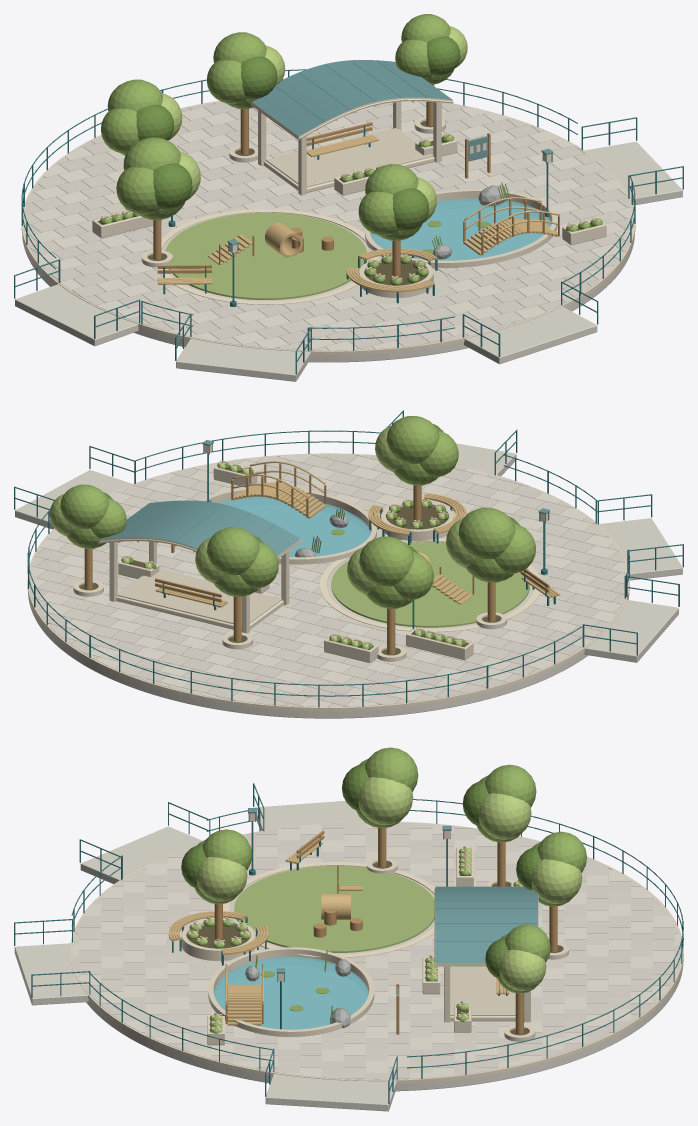
File: environment.glb
3 views of the same model, one above another, from view 1: azimuth 30°, elevation 25°; view 2: azimuth 150°, elevation 25°; view 3: azimuth 270°, elevation 25° (orthographic).
Visible parts, largest first — view 1: Site_Components__WarmLimestonePaver1, Site_Components__WarmLimestonePaver0, Site_Components__WarmLimestonePaver2, Site_Components__stone, Landscape_Components__leaf, Landscape_Components__Meadow lawn, OpenGardenPavilion__roof, Landscape_Components__leafDark, Landscape_Components__cream, Site_Components__rail, Landscape_Components__Clear turquoise water, OpenGardenPavilion__floor (+15 smaller); view 2: Site_Components__WarmLimestonePaver1, Site_Components__WarmLimestonePaver0, Site_Components__WarmLimestonePaver2, Landscape_Components__leaf, Site_Components__stone, Site_Components__rail, Landscape_Components__cream, Landscape_Components__Meadow lawn, OpenGardenPavilion__roof, Site_Components__cream, Landscape_Components__leafLight, Landscape_Components__Clear turquoise water (+15 smaller); view 3: Site_Components__WarmLimestonePaver1, Site_Components__WarmLimestonePaver2, Site_Components__WarmLimestonePaver0, Site_Components__stone, Landscape_Components__Meadow lawn, Landscape_Components__leafLight, Landscape_Components__leaf, Landscape_Components__Clear turquoise water, Landscape_Components__cream, OpenGardenPavilion__roof, Site_Components__rail, Site_Components__cream (+12 smaller).
Part boxes in pixels (x1,y1,x2,y2): Site_Components__WarmLimestonePaver1: [29, 101, 632, 350]; Site_Components__WarmLimestonePaver0: [23, 102, 627, 350]; Site_Components__WarmLimestonePaver2: [24, 101, 633, 348]; Site_Components__stone: [15, 141, 682, 381]; Landscape_Components__leaf: [101, 14, 602, 285]; Landscape_Components__Meadow lawn: [165, 213, 366, 299]; OpenGardenPavilion__roof: [252, 60, 452, 136]; Landscape_Components__leafDark: [100, 36, 596, 285]; Landscape_Components__cream: [92, 116, 606, 297]; Site_Components__rail: [14, 69, 683, 374]; Landscape_Components__Clear turquoise water: [371, 198, 551, 260]; OpenGardenPavilion__floor: [266, 128, 433, 187]; Site_Components__WarmLimestonePaver1: [29, 454, 626, 706]; Site_Components__WarmLimestonePaver0: [31, 454, 624, 707]; Site_Components__WarmLimestonePaver2: [30, 454, 624, 706]; Landscape_Components__leaf: [60, 416, 535, 647]; Site_Components__stone: [15, 443, 682, 718]; Site_Components__rail: [14, 410, 683, 707]; Landscape_Components__cream: [73, 463, 506, 662]; Landscape_Components__Meadow lawn: [331, 542, 529, 627]; OpenGardenPavilion__roof: [99, 500, 300, 555]; Site_Components__cream: [27, 453, 629, 711]; Landscape_Components__leafLight: [49, 426, 475, 649]; Landscape_Components__Clear turquoise water: [218, 496, 371, 557]; Site_Components__WarmLimestonePaver1: [72, 822, 680, 1079]; Site_Components__WarmLimestonePaver2: [72, 822, 681, 1079]; Site_Components__WarmLimestonePaver0: [72, 823, 681, 1079]; Site_Components__stone: [14, 800, 683, 1111]; Landscape_Components__Meadow lawn: [234, 866, 434, 952]; Landscape_Components__leafLight: [193, 777, 582, 1032]; Landscape_Components__leaf: [186, 747, 586, 1033]; Landscape_Components__Clear turquoise water: [214, 956, 368, 1029]; Landscape_Components__cream: [181, 847, 568, 1045]; OpenGardenPavilion__roof: [435, 886, 537, 962]; Site_Components__rail: [14, 783, 683, 1103]; Site_Components__cream: [70, 821, 683, 1083].
Size of the model in its own units: 27.98 by 5.72 by 25.81.
